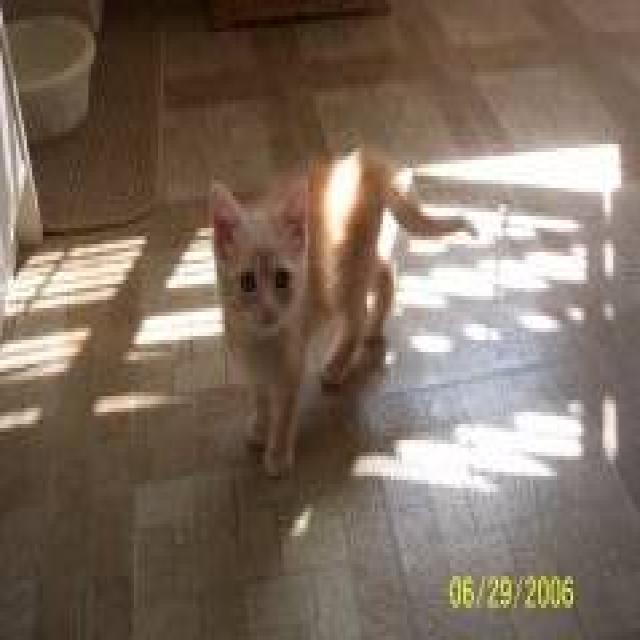cat: (209, 136, 477, 476)
